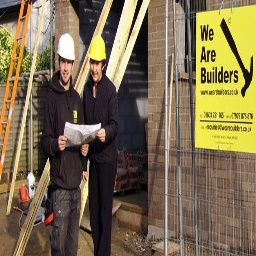helmet: (56, 30, 78, 65), (87, 31, 108, 65)
no-vest: (47, 83, 82, 191), (85, 76, 118, 168)
person: (47, 29, 89, 256), (81, 32, 121, 256)
